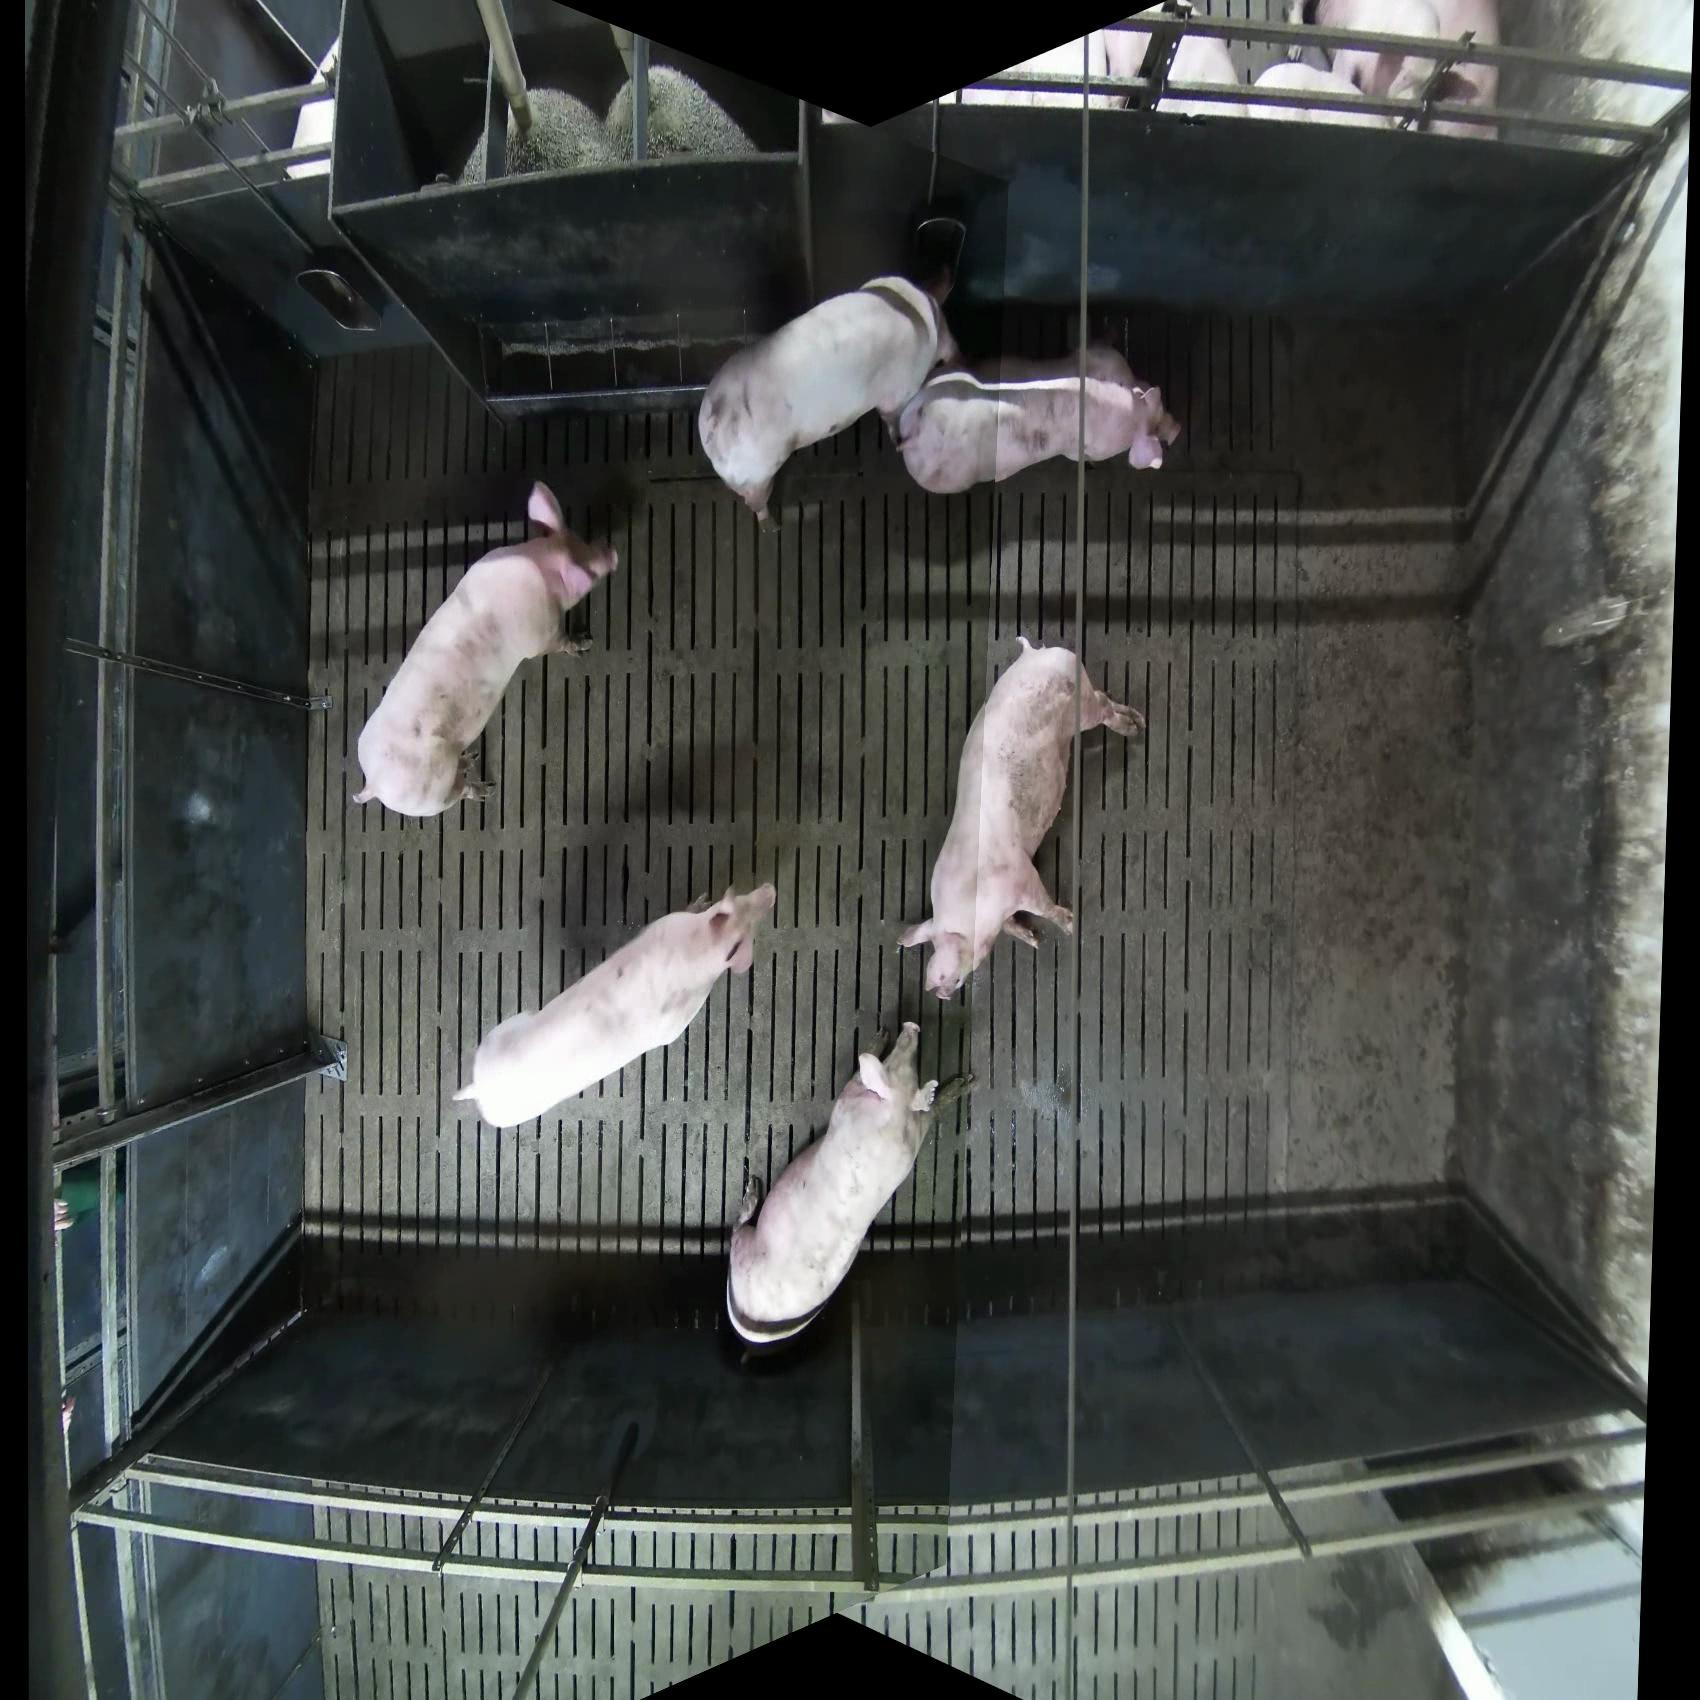pig: (897, 634, 1147, 1004), (350, 479, 620, 824), (696, 215, 968, 534), (450, 880, 778, 1132), (722, 1020, 940, 1347), (895, 341, 1183, 497), (1312, 2, 1502, 139), (1093, 23, 1247, 118), (1311, 2, 1442, 103), (1252, 61, 1398, 131)
